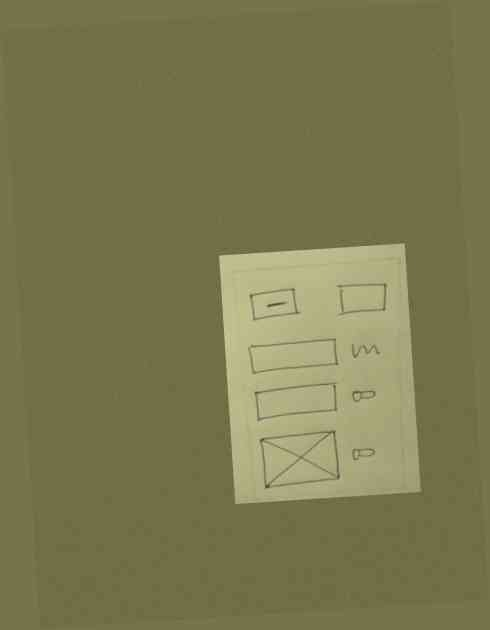button: (247, 287, 304, 323)
image: (256, 427, 343, 488)
switch: (349, 443, 378, 467), (350, 385, 379, 408)
text: (345, 335, 384, 364)
text_input: (245, 334, 341, 378), (248, 379, 343, 422), (334, 279, 391, 319)
